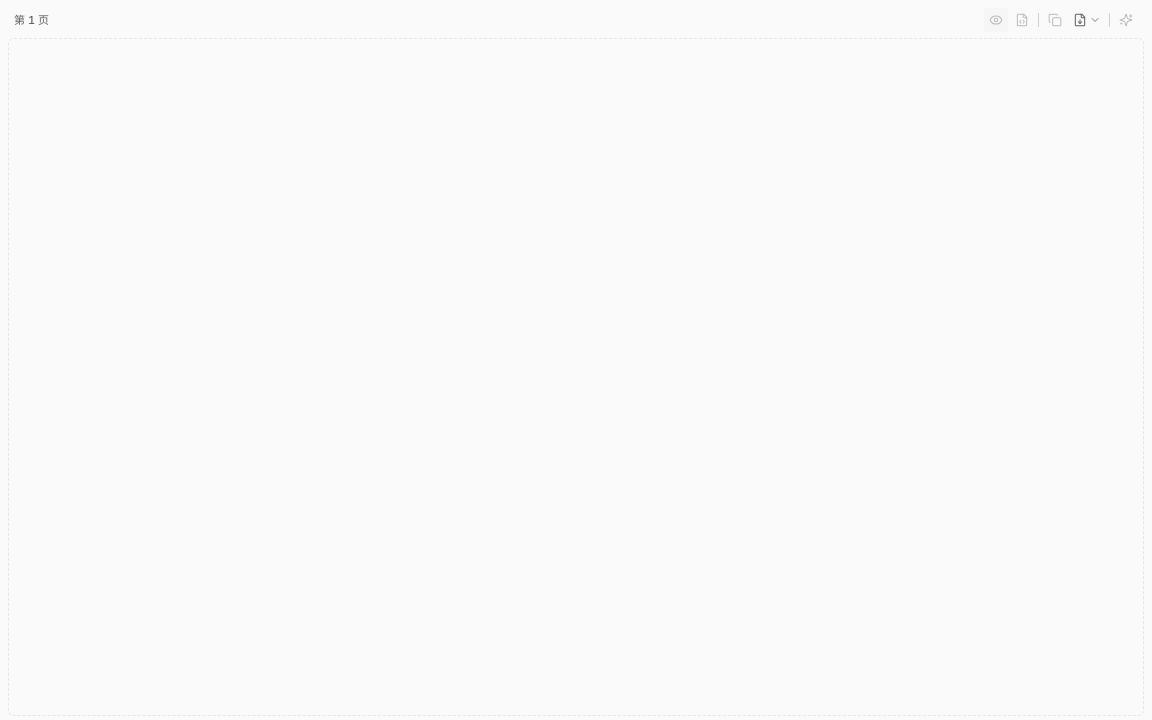
OcrTextPanel toolbar — export menu › keeps the toolbar up on an empty page while other pages have text
The width and height of the screenshot is (1152, 720).
Click the button named "导出" at (1087, 20), box [1069,8,1105,32]
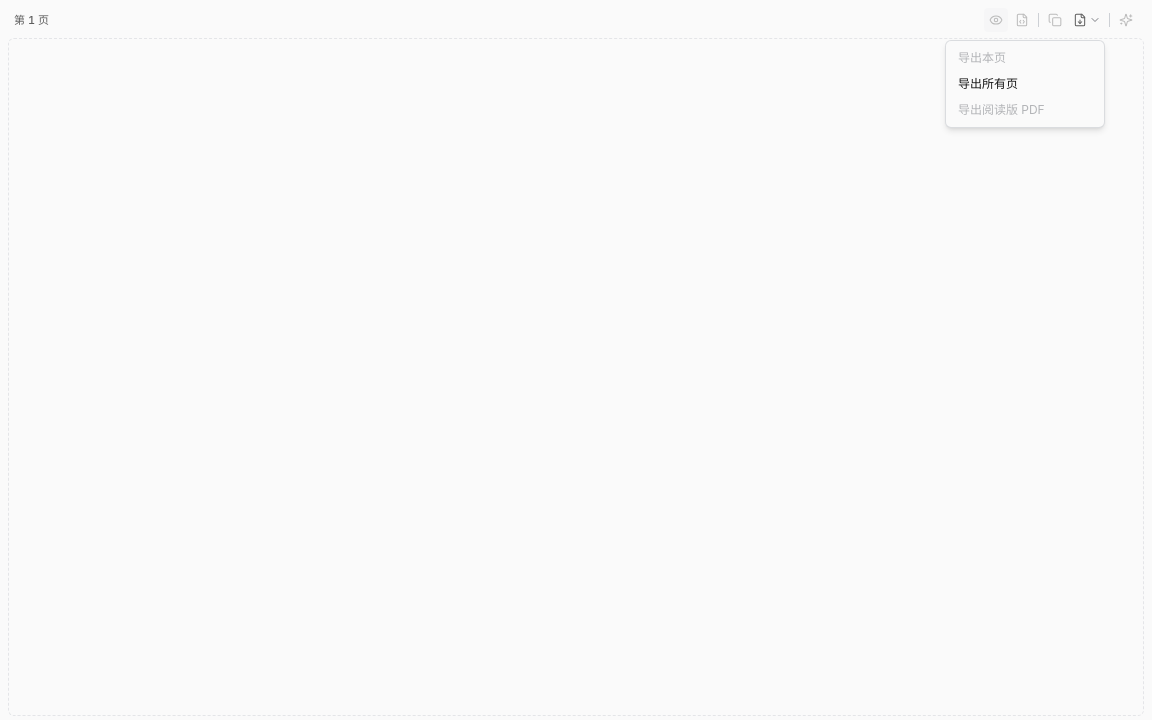
Expected: the menu item "导出本页" is disabled, [950,45,1100,71]
Expected: the menu item "导出所有页" is enabled, [950,71,1100,97]
